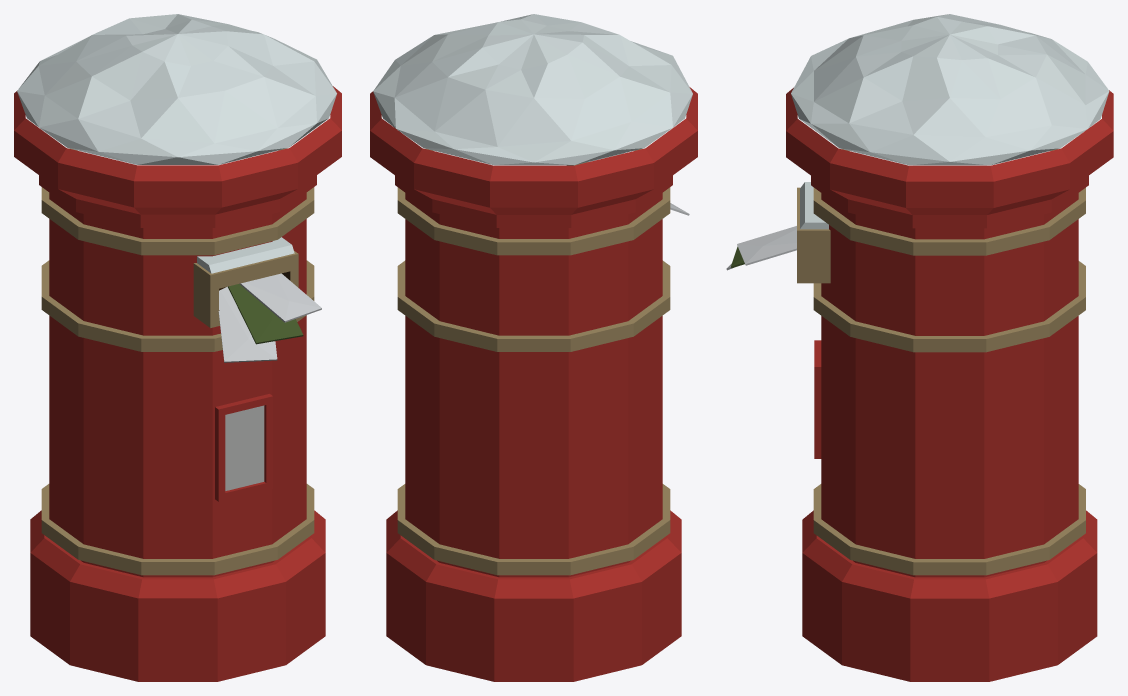
File: letters-to-santa-mailbox-f223e5.glb
3 renders of one model, left to right at view 1: azimuth 30°, elevation 25°; view 2: azimuth 150°, elevation 25°; view 3: azimuth 270°, elevation 25°, orthographic.
Parts seen in each view (by area): view 1: mailbox-body, letters-mesh; view 2: mailbox-body; view 3: mailbox-body, letters-mesh.
Part boxes in pixels (x1=…): mailbox-body: x1=14, y1=14, x2=341, y2=681; letters-mesh: x1=218, y1=273, x2=321, y2=362; mailbox-body: x1=370, y1=14, x2=697, y2=681; mailbox-body: x1=786, y1=14, x2=1113, y2=681; letters-mesh: x1=726, y1=226, x2=796, y2=270.
Bounding box in the file's own units: 0.6761 × 1.33 × 0.7996.
